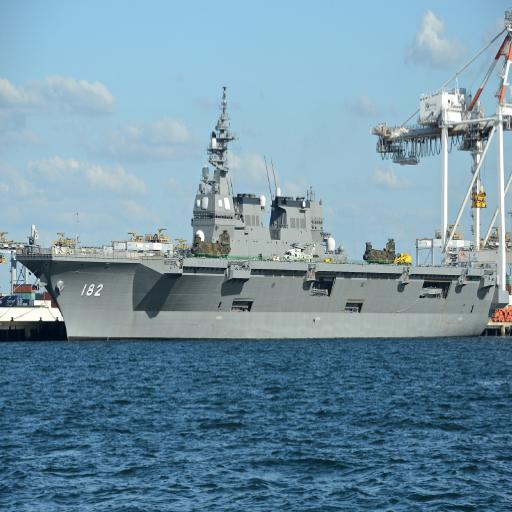Portanaves: (4, 82, 504, 354)
